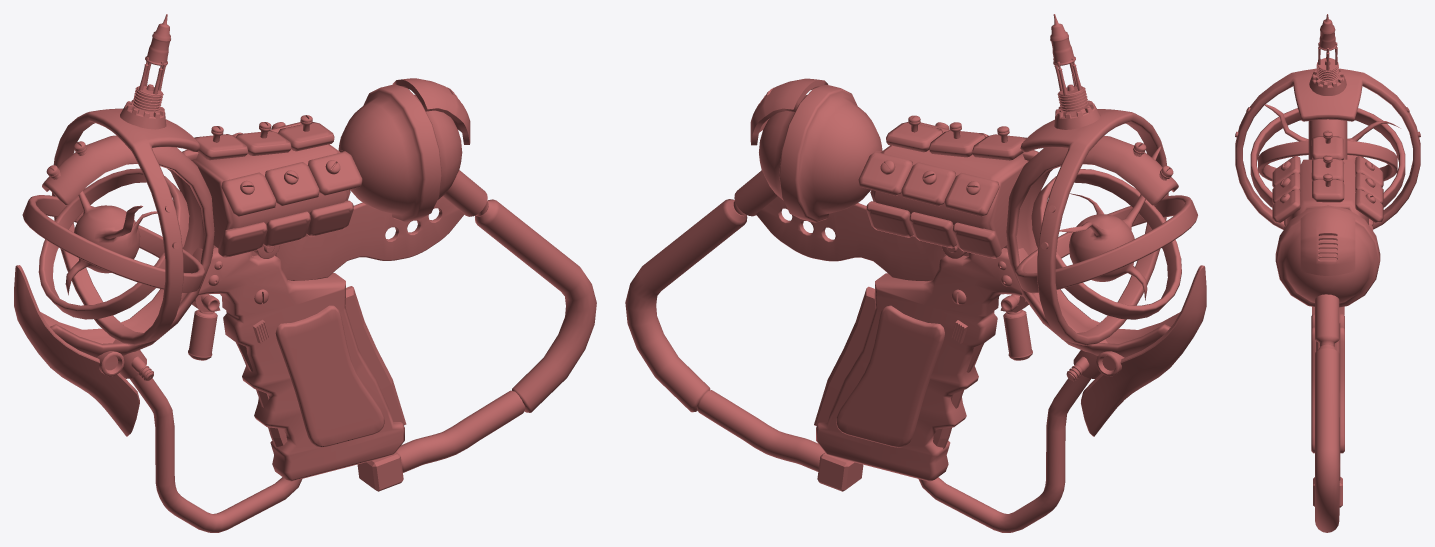
The model's file is sp_gun_low.fbx.
3 renders of one model, left to right at view 1: azimuth 30°, elevation 25°; view 2: azimuth 150°, elevation 25°; view 3: azimuth 270°, elevation 25°, orthographic. The views are drawn at different scales.
Visible parts, largest first — view 1: uv3_low, uv5_low, uv4_low, uv2_low, uv1_low, uv6_low; view 2: uv3_low, uv5_low, uv4_low, uv2_low, uv1_low, uv6_low; view 3: uv3_low, uv5_low, uv2_low, uv4_low, uv6_low.
Boxes of the visible parts, box(x1,y1,x2,y2) form: uv3_low: box(52, 14, 596, 412); uv5_low: box(22, 135, 464, 491); uv4_low: box(139, 57, 404, 481); uv2_low: box(46, 78, 525, 532); uv1_low: box(14, 150, 344, 436); uv6_low: box(65, 191, 157, 295); uv3_low: box(625, 14, 1168, 412); uv5_low: box(756, 135, 1197, 491); uv4_low: box(816, 57, 1082, 481); uv2_low: box(696, 78, 1173, 532); uv1_low: box(876, 150, 1206, 436); uv6_low: box(1059, 145, 1161, 300); uv3_low: box(1235, 14, 1420, 532); uv5_low: box(1250, 108, 1405, 507); uv2_low: box(1280, 69, 1375, 347); uv4_low: box(1287, 42, 1368, 480); uv6_low: box(1264, 104, 1400, 164).
Size of the model in its own units: 39.6 by 34.71 by 14.05.
